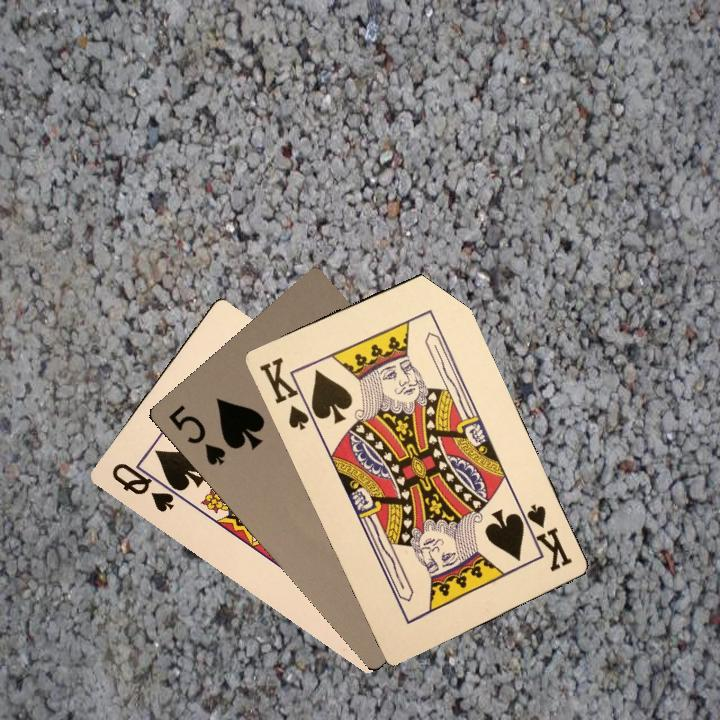5s: (164, 401, 229, 468)
Ks: (255, 353, 318, 431), (515, 499, 575, 575)
Qs: (107, 458, 186, 515)
